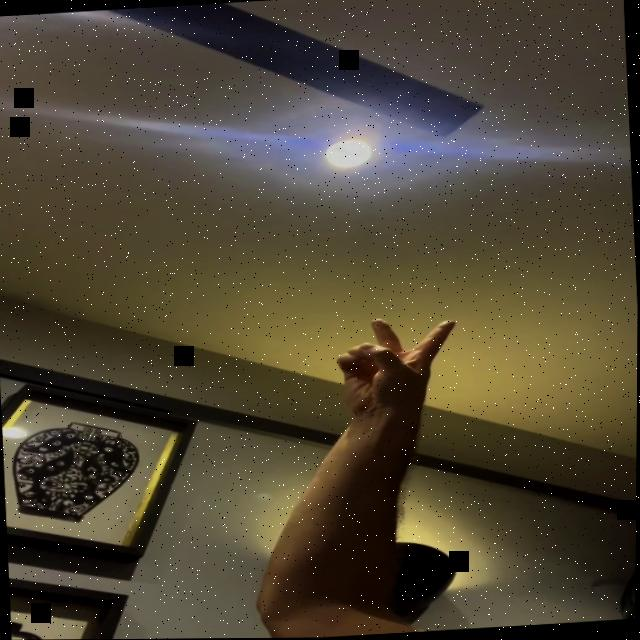Scissors: (329, 312, 467, 414)
